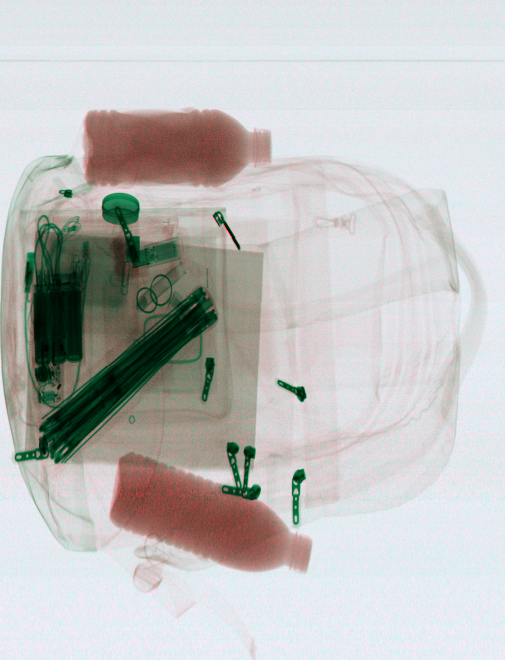Plastic Bottle: (109, 452, 313, 574), (83, 109, 273, 188)
